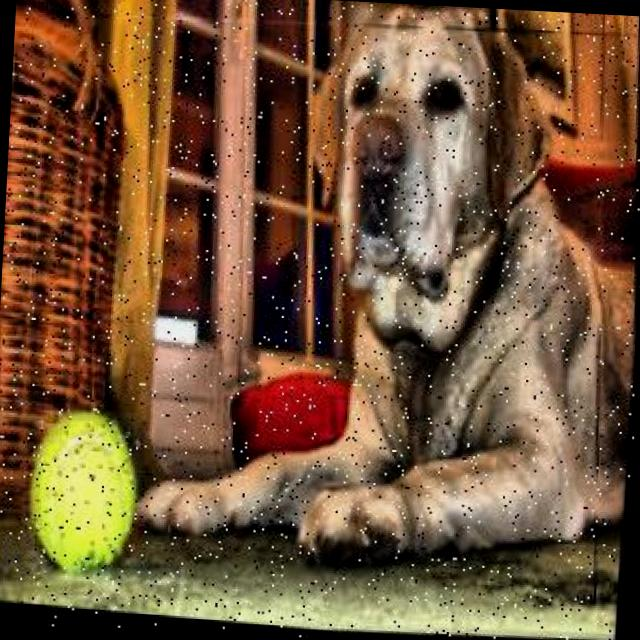Tennis Ball: (23, 407, 152, 592)
